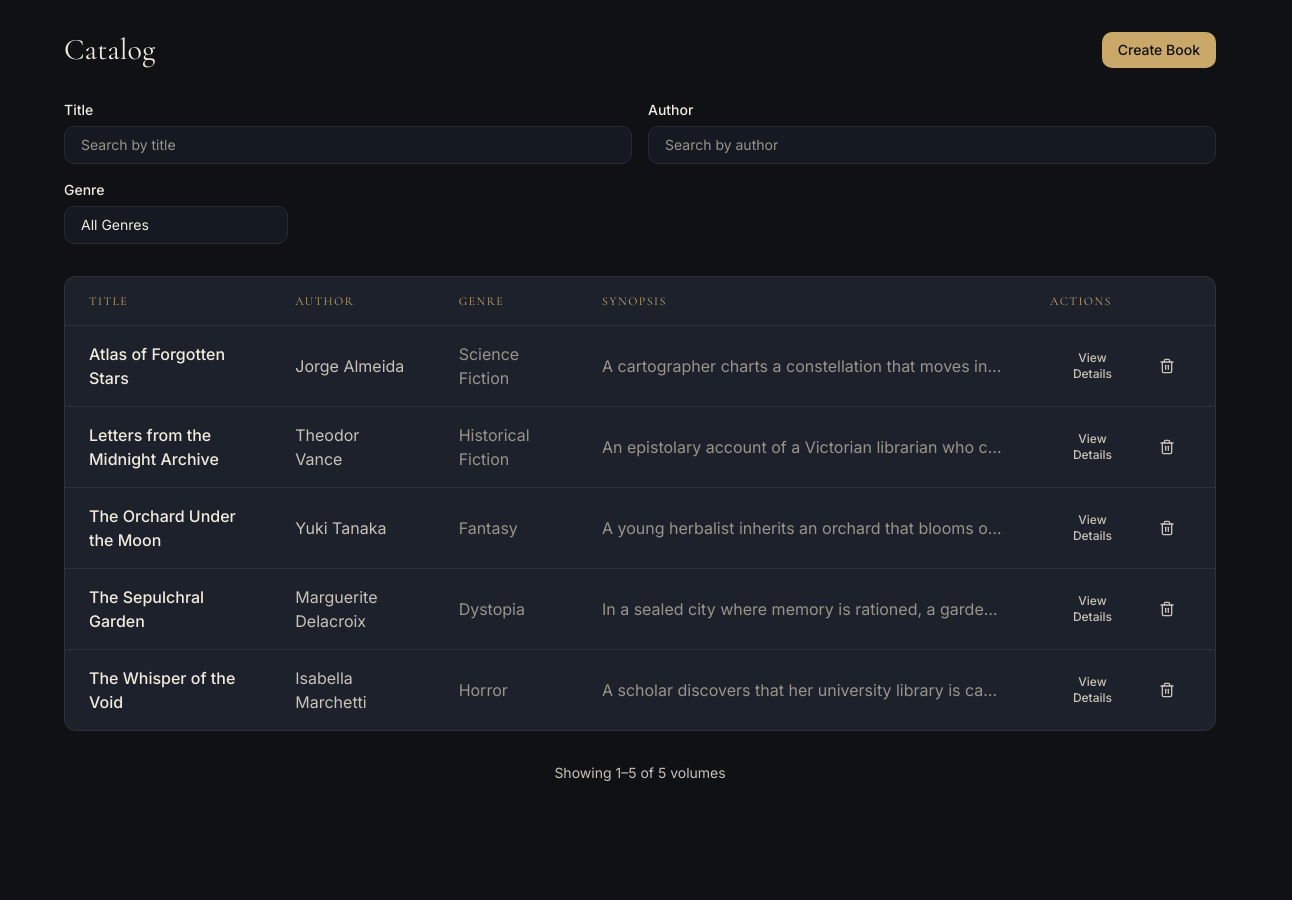
Test: BooksPage › filters books by title search
expect the text "The Whisper of the Void" is shown: met, box [65,650,271,730]
expect the number of rows is 6: met, box [65,277,1215,326]; [65,326,1215,406]; [65,406,1215,488]; [65,488,1215,568]; [65,568,1215,650]; [65,650,1215,730]
Type "Whisper" into the search field labelled "Title" at (348, 145), box [64,126,632,164]
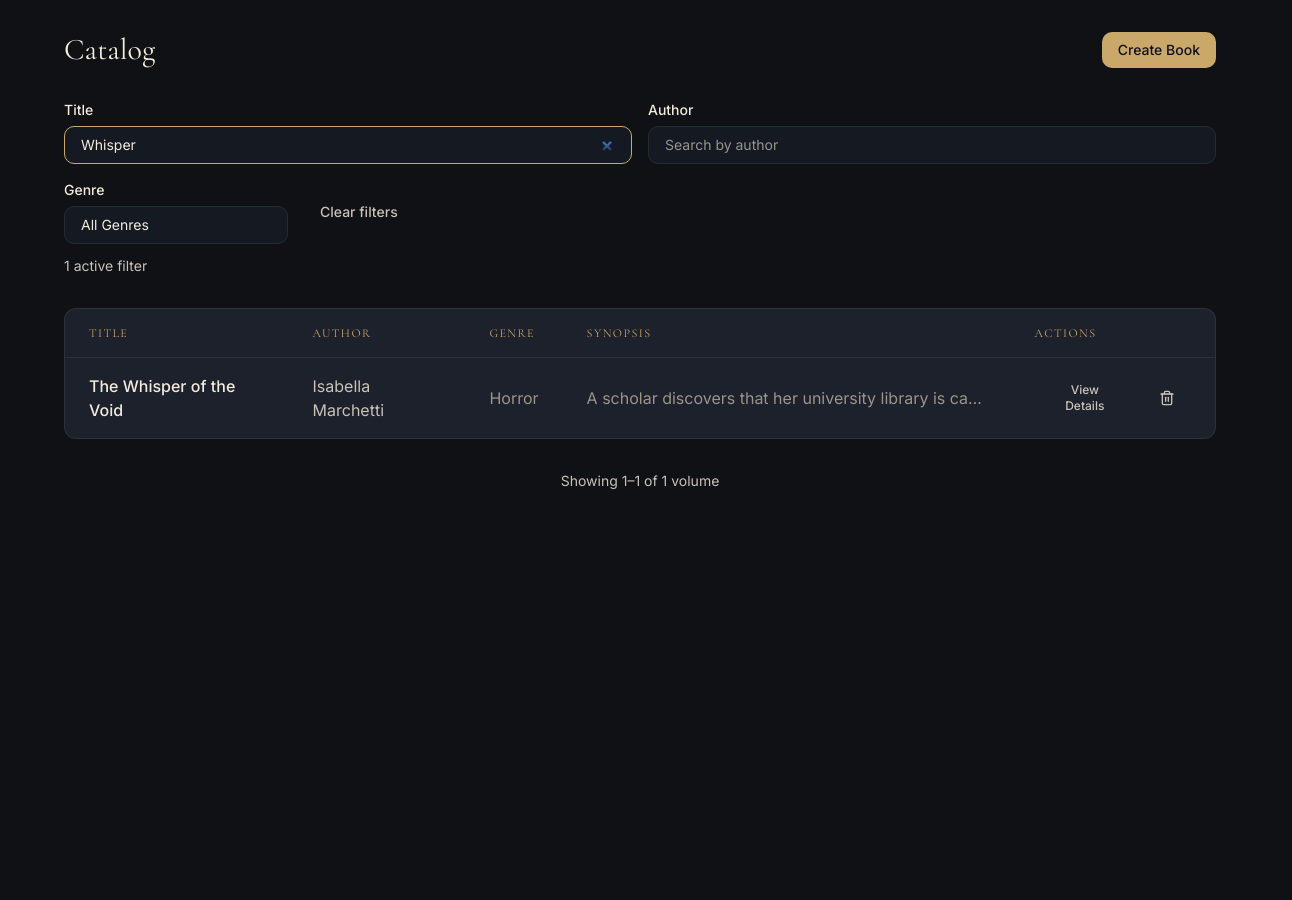
expect the text "The Whisper of the Void" is shown: met, box [65,358,289,438]
expect the text "Atlas of Forgotten Stars" is gone: met
